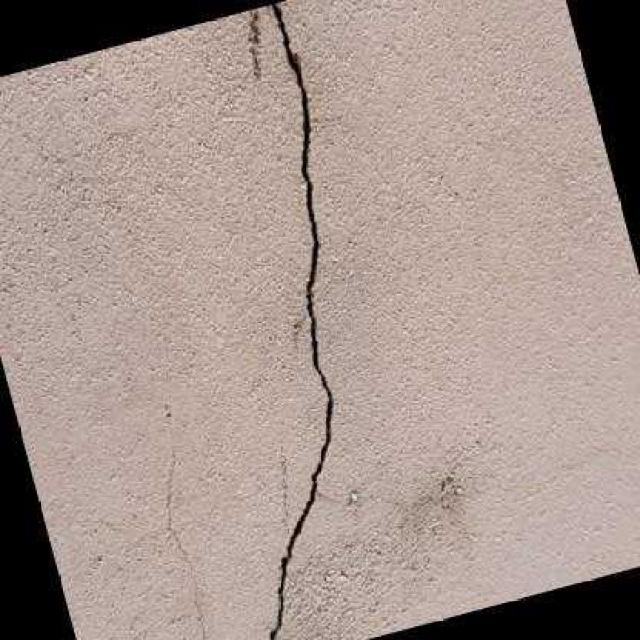D00: (267, 1, 331, 640)
